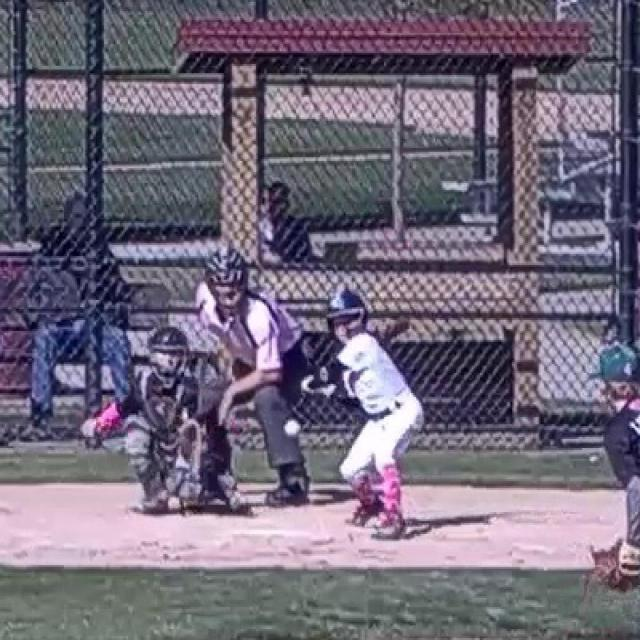baseball: (284, 421, 300, 437)
